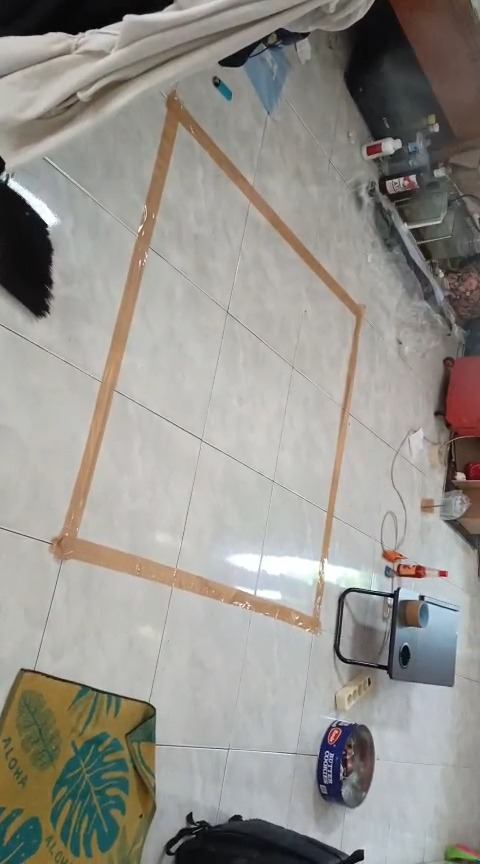floor marking: (52, 93, 363, 632)
